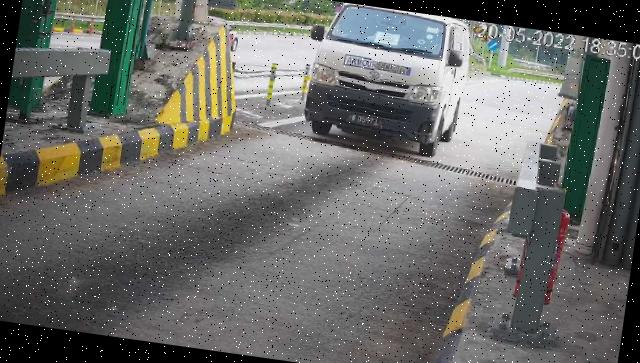License_Plate: (347, 110, 387, 132)
van: (302, 1, 476, 161)
